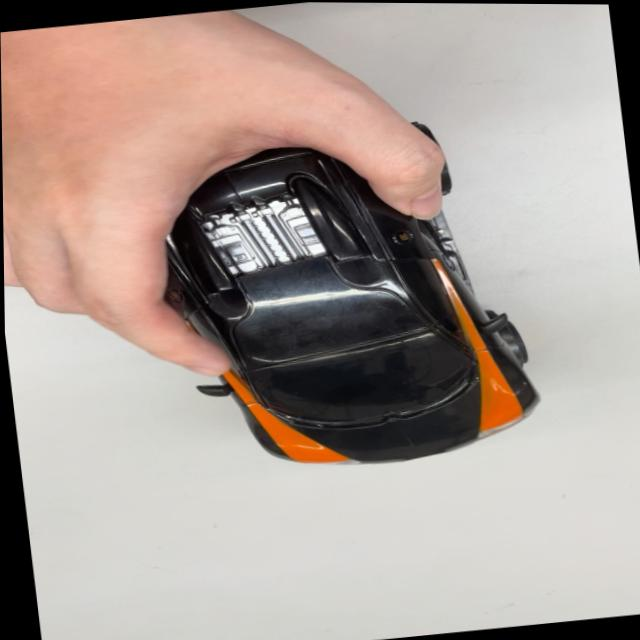vehicle_body: (116, 104, 562, 491)
